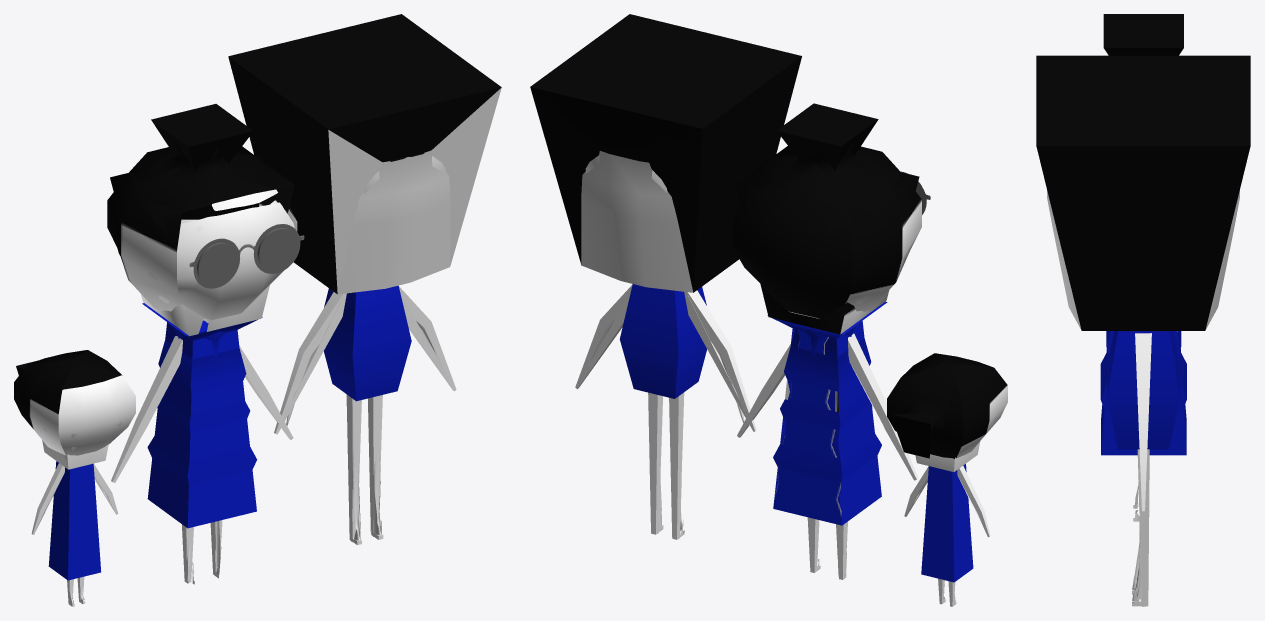
The model's file is E_ch_Family.fbx.
3 renders of one model, left to right at view 1: azimuth 30°, elevation 25°; view 2: azimuth 150°, elevation 25°; view 3: azimuth 270°, elevation 25°, orthographic. The views are drawn at different scales.
Visible parts, largest first — view 1: mp_ch_family, lp_ch_family, hp_ch_e_family; view 2: mp_ch_family, lp_ch_family, hp_ch_e_family; view 3: lp_ch_family, mp_ch_family, hp_ch_e_family.
Boxes of the visible parts, x1,y1,x2,y2 form: mp_ch_family: (14, 14, 501, 606); lp_ch_family: (34, 56, 501, 604); hp_ch_e_family: (24, 144, 445, 604); mp_ch_family: (530, 14, 1007, 606); lp_ch_family: (530, 56, 987, 606); hp_ch_e_family: (585, 143, 996, 604); lp_ch_family: (1036, 146, 1250, 606); mp_ch_family: (1036, 14, 1250, 606); hp_ch_e_family: (1132, 340, 1179, 605).
Size of the model in its own units: 175 by 185 by 72.04.
